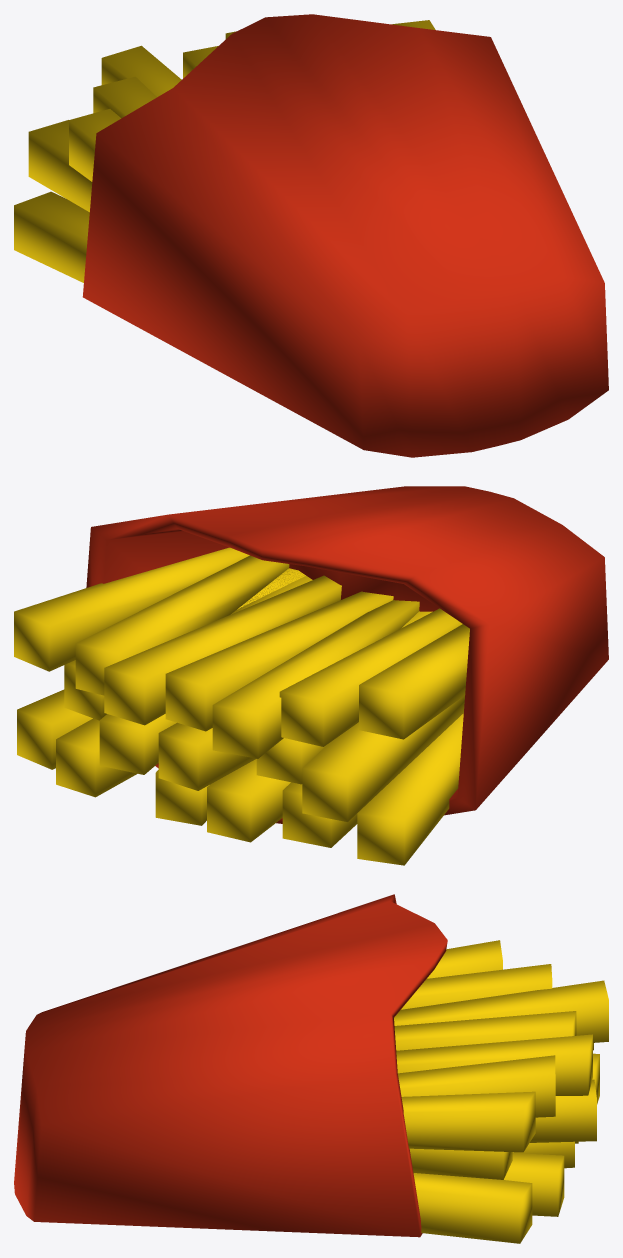
Rendered from Fries.fbx.
The picture shows the model from 3 angles, top to bottom: view 1: azimuth 30°, elevation 25°; view 2: azimuth 150°, elevation 25°; view 3: azimuth 270°, elevation 25°; orthographic projection. The views are drawn at different scales.
Parts seen in each view (by area): view 1: Fries; view 2: Fries; view 3: Fries.
Part boxes in pixels (x1,y1,x2,y2): Fries: (14,14,608,457); Fries: (14,486,608,865); Fries: (14,894,608,1243).
Bounding box in the file's own units: 1.37 × 0.8446 × 1.87.
